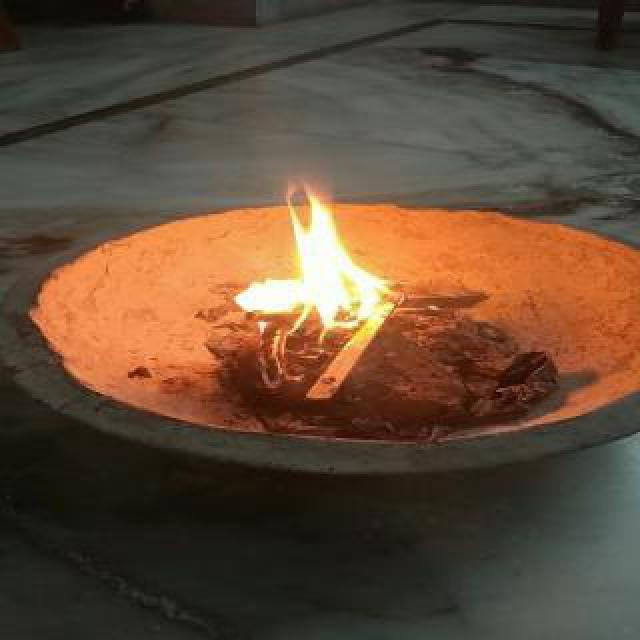zfire: (220, 168, 418, 334)
